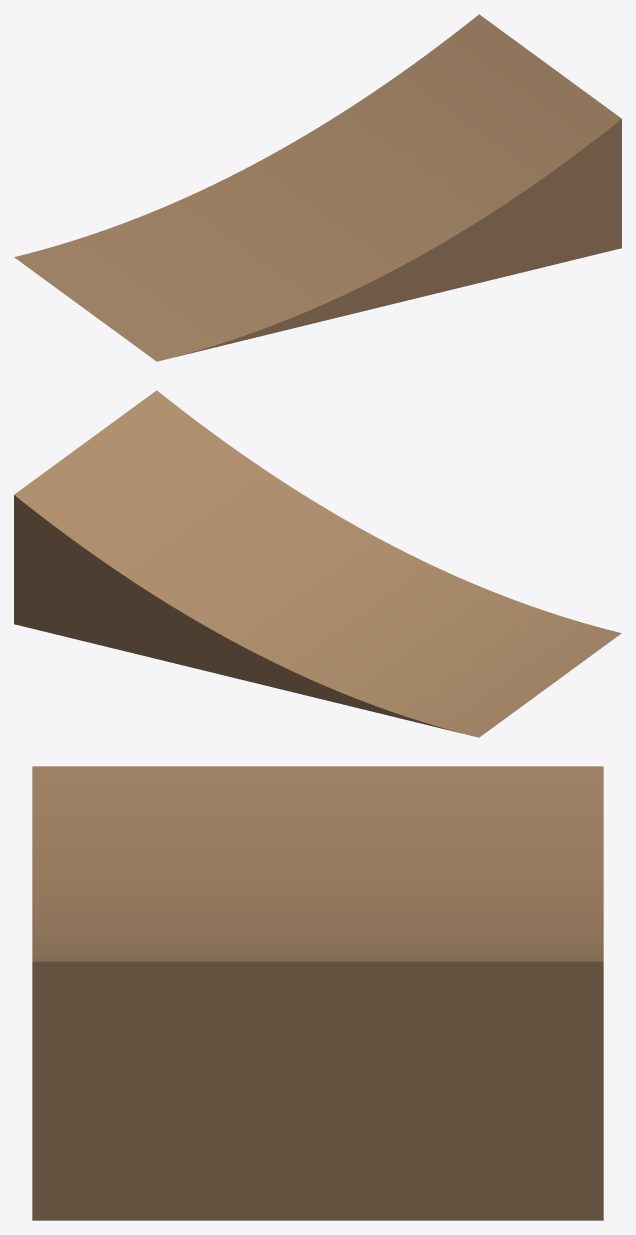
The model's file is SC_Prop_JumpRamp.fbx.
3 renders of one model, top to bottom at view 1: azimuth 30°, elevation 25°; view 2: azimuth 150°, elevation 25°; view 3: azimuth 270°, elevation 25°, orthographic. The views are drawn at different scales.
Parts seen in each view (by area): view 1: SC_Prop_JumpRamp; view 2: SC_Prop_JumpRamp; view 3: SC_Prop_JumpRamp.
Part boxes in pixels (bbox=[...]): SC_Prop_JumpRamp: bbox=[14, 14, 621, 361]; SC_Prop_JumpRamp: bbox=[14, 390, 621, 737]; SC_Prop_JumpRamp: bbox=[32, 766, 603, 1220].
Size of the model in its own units: 3.76 by 1 by 2.
